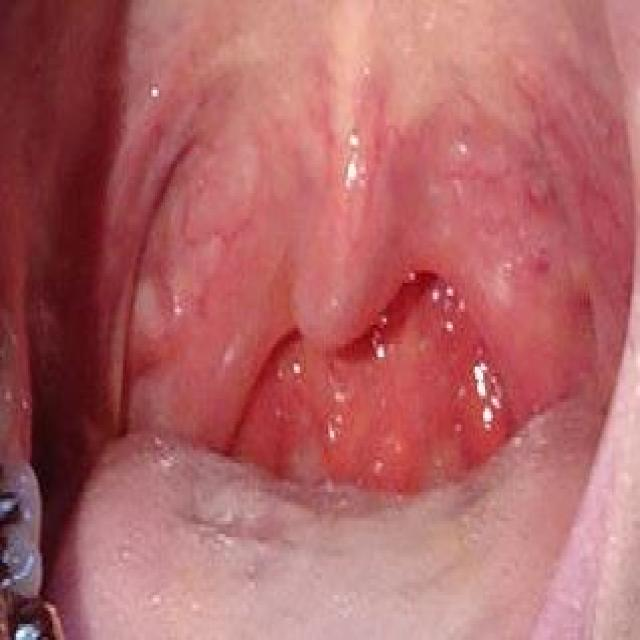Non Pharyngitis: (463, 149, 616, 439), (118, 173, 251, 455)
